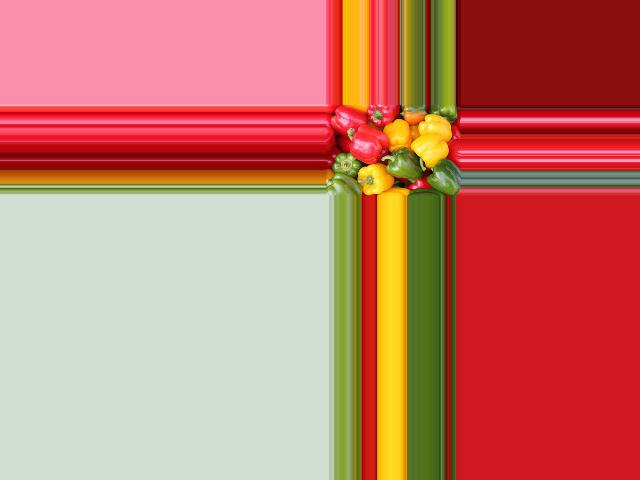bell_pepper: (426, 104, 456, 120)
